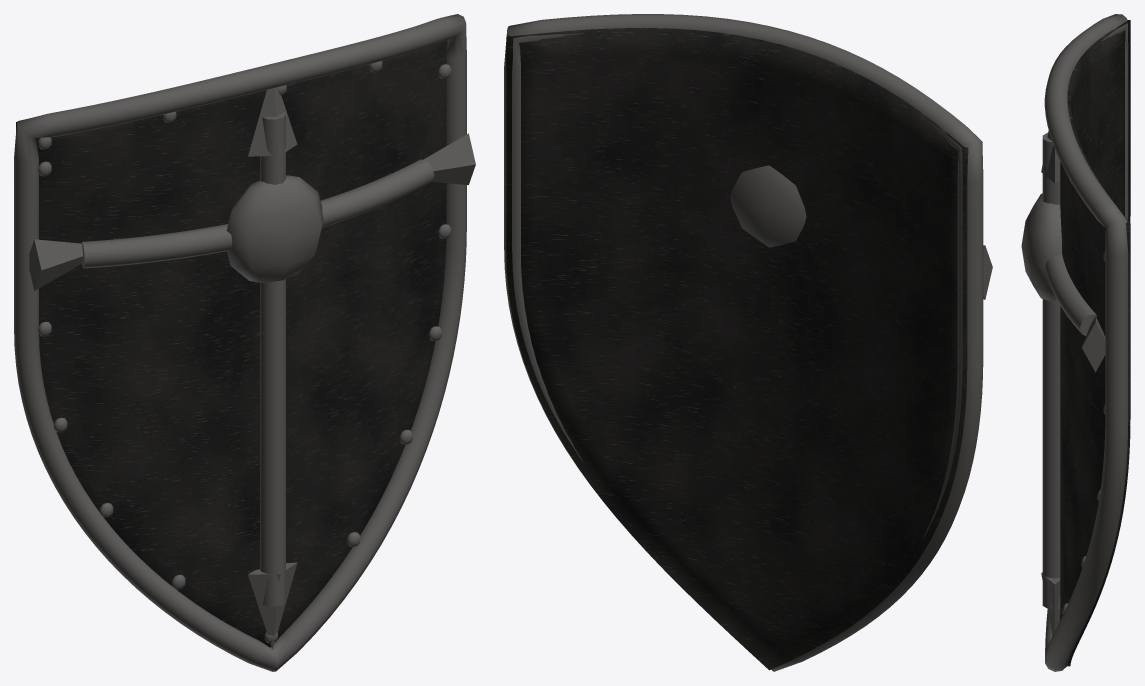
Rendered from Knight_shield.glb.
The picture shows the model from 3 angles, left to right: view 1: azimuth 30°, elevation 25°; view 2: azimuth 150°, elevation 25°; view 3: azimuth 270°, elevation 25°; orthographic projection. The views are drawn at different scales.
Visible parts, largest first — view 1: ShieldPlate, RidgeH.001, Boss; view 2: ShieldPlate, RidgeH.001, Boss; view 3: RidgeH.001, ShieldPlate, Boss.
Part boxes in pixels (bbox=[...]): ShieldPlate: bbox=[16, 40, 447, 647]; RidgeH.001: bbox=[14, 14, 466, 671]; Boss: bbox=[29, 61, 475, 649]; ShieldPlate: bbox=[506, 28, 968, 670]; RidgeH.001: bbox=[504, 14, 983, 671]; Boss: bbox=[607, 165, 992, 299]; RidgeH.001: bbox=[1042, 14, 1128, 671]; ShieldPlate: bbox=[1060, 20, 1130, 666]; Boss: bbox=[1021, 131, 1105, 635].
Bounding box in the file's own units: 0.5796 × 0.7465 × 0.127.
Materials: 2 (1 with a texture image).
